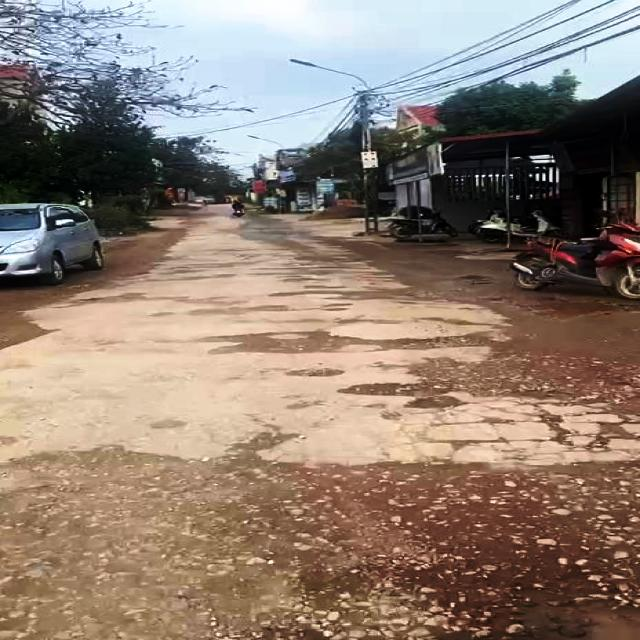pothole: (0, 458, 640, 640), (339, 354, 640, 412), (531, 412, 640, 460), (190, 328, 356, 356), (360, 330, 514, 356), (522, 290, 638, 322), (268, 285, 442, 302), (58, 293, 185, 305), (188, 304, 299, 316)
